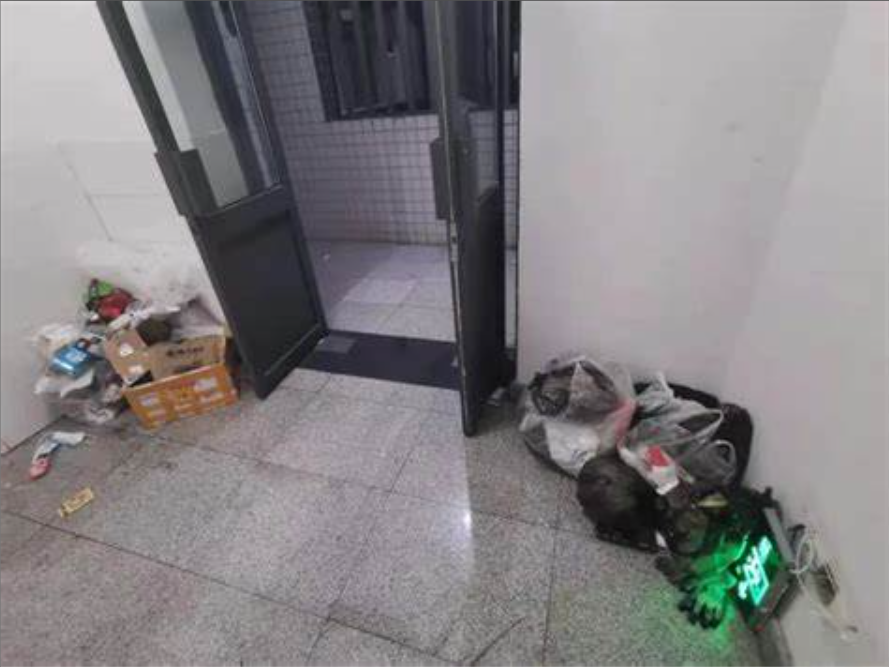garbage: (14, 233, 248, 432), (600, 354, 782, 523), (579, 437, 741, 565), (525, 350, 653, 474), (646, 534, 767, 635), (11, 431, 91, 481), (53, 482, 102, 522)
